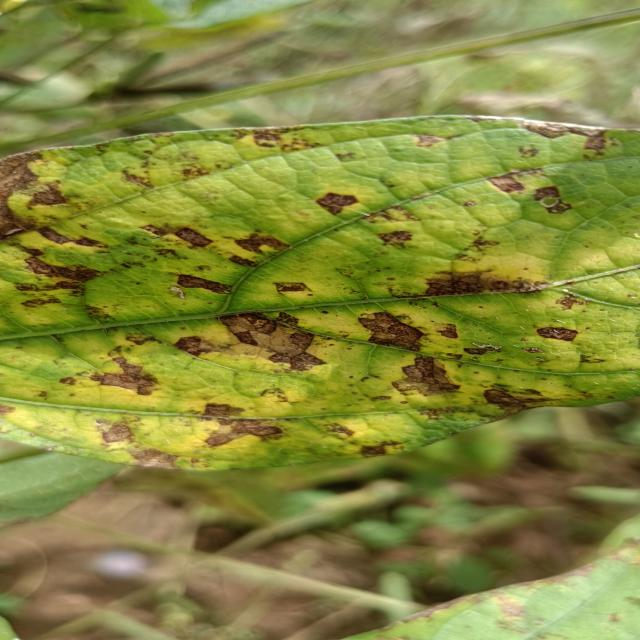Black gram_leaf spot: (0, 111, 640, 475)
